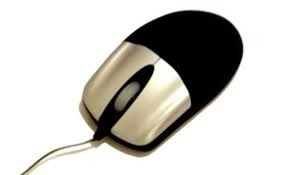mouse: (69, 1, 251, 160)
